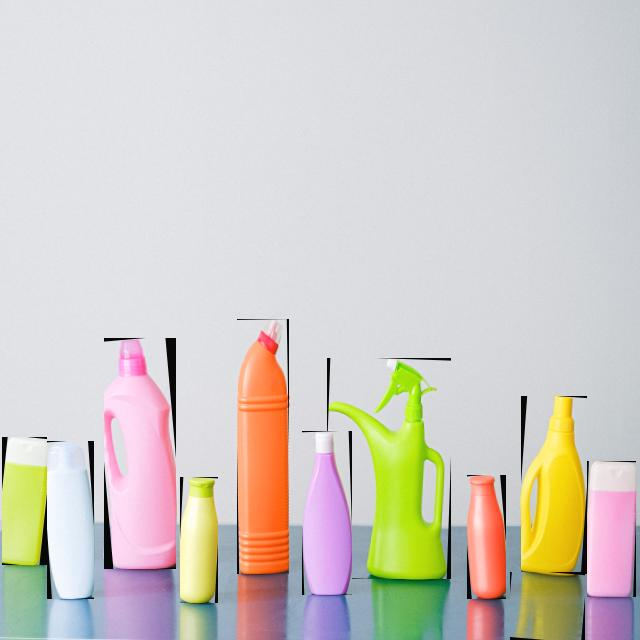Bottle: (326, 358, 449, 579), (237, 320, 288, 573), (520, 396, 586, 574), (302, 432, 350, 595), (46, 441, 93, 599), (586, 462, 635, 596), (1, 438, 45, 565), (179, 477, 217, 603), (467, 476, 504, 598), (518, 573, 583, 639), (112, 415, 127, 474)
